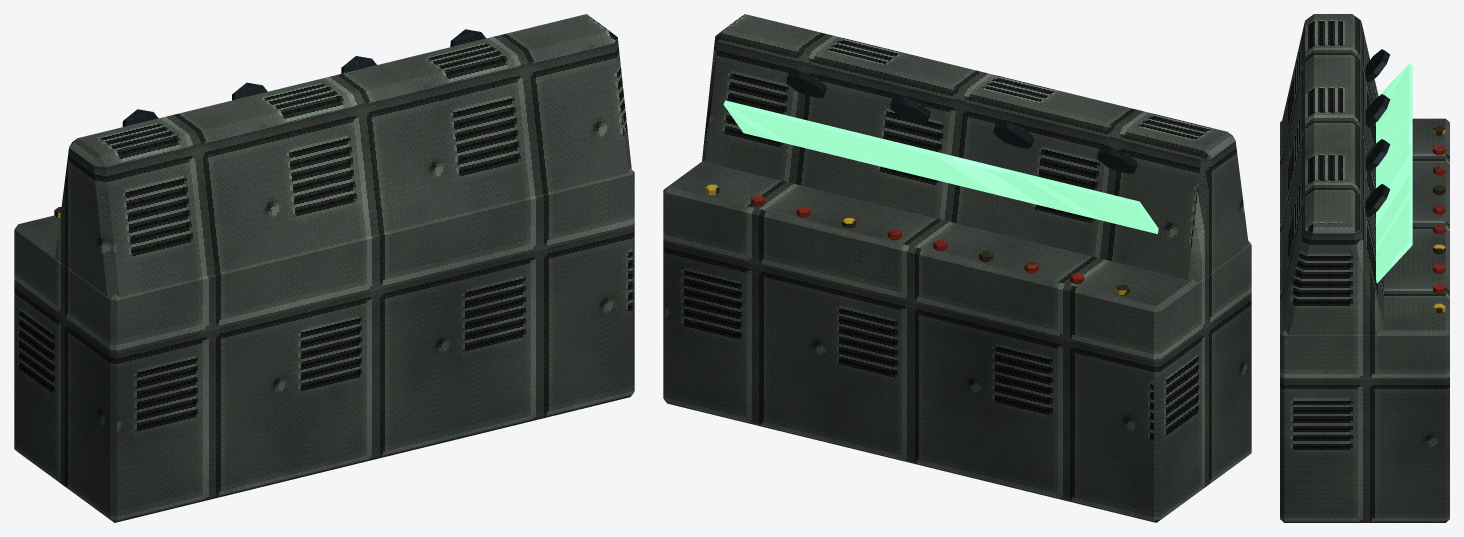
File: int_control_panel.glb
The picture shows the model from 3 angles, left to right: view 1: azimuth 30°, elevation 25°; view 2: azimuth 150°, elevation 25°; view 3: azimuth 270°, elevation 25°; orthographic projection. The views are drawn at different scales.
Visible parts, largest first — view 1: int_control_panel_mesh; view 2: int_control_panel_mesh; view 3: int_control_panel_mesh.
Part boxes in pixels (<box>): int_control_panel_mesh: <box>14,14,634,522</box>; int_control_panel_mesh: <box>663,14,1251,522</box>; int_control_panel_mesh: <box>1280,14,1449,522</box>.
Size of what is drawn, in the model's own units: 2.4 by 1.55 by 0.8.
Materials: 5 (5 with a texture image).
